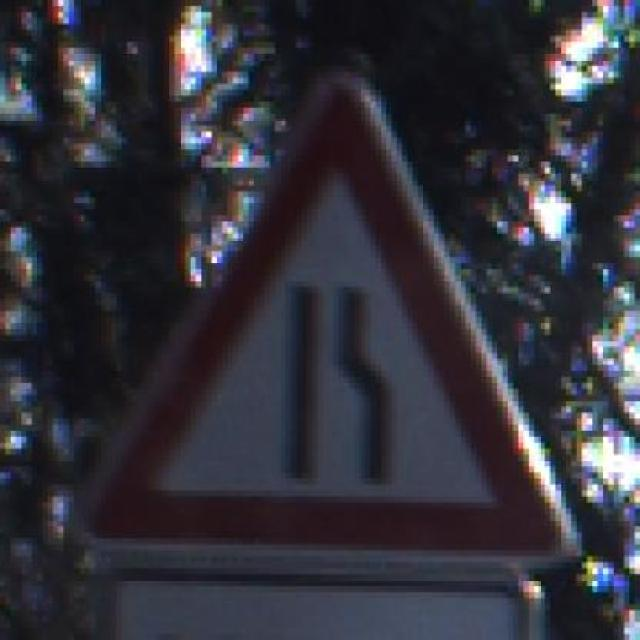-Road narrows on right: (59, 47, 588, 585)
